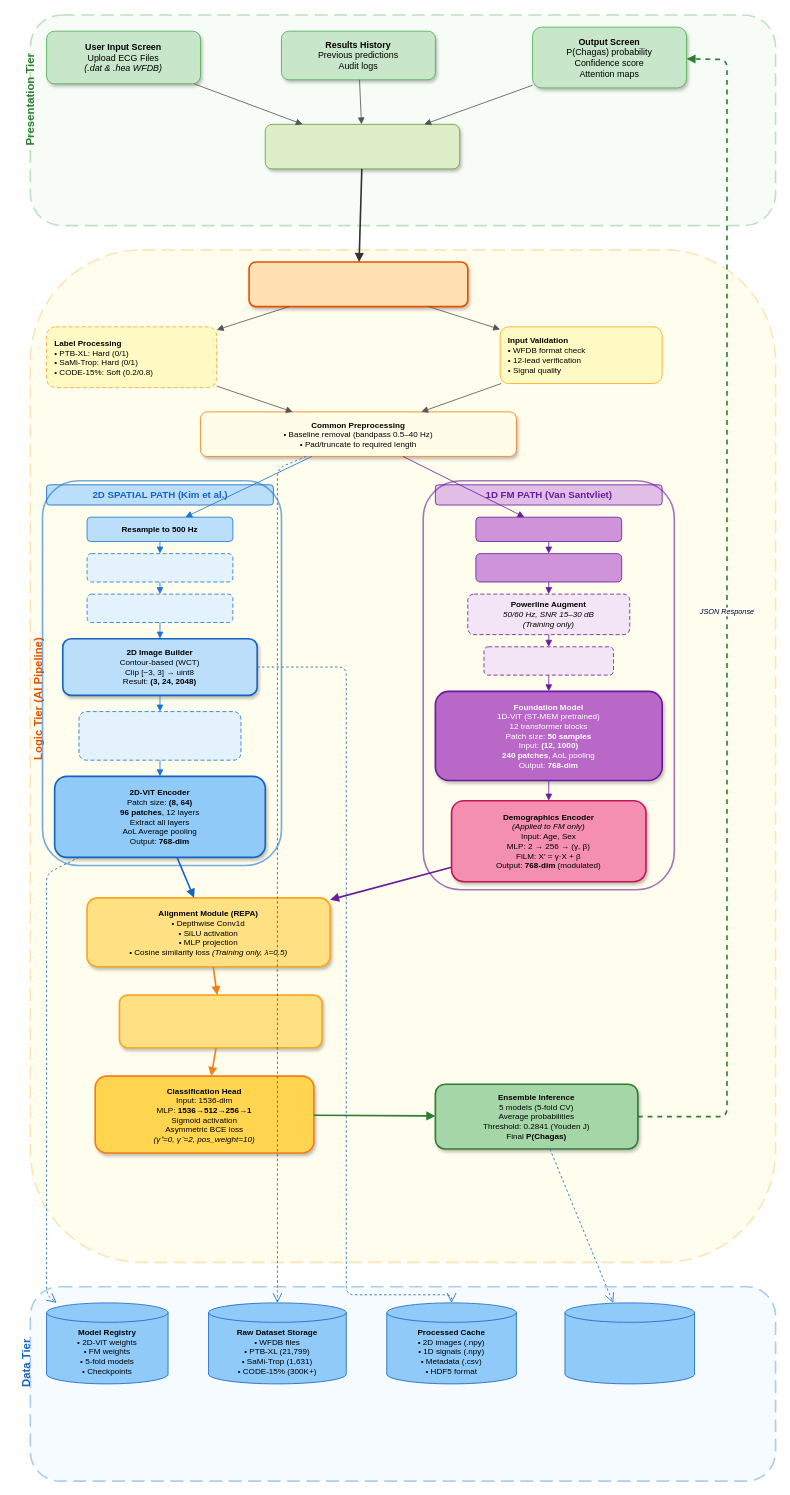
The diagram is 790 pixels wide and 1495 high, and some of its shapes have lost their labels. The centre of each missing label's shape, as x and y in pixels:
Crop & Shift (Training only): [548,660]
Feature Fusion Concatenation 2D-ViT (768) + FM (768) Total: 1536-dim: [221,1022]
Flask API Gateway app.py — port 5050 Request routing: [359,285]
Image Augmentations Grid shuffle, Mixup Rotate, noise, blur (Training only): [159,735]
Lead-mixup augment (Training only): [159,607]
Processing Screen Real-time status Progress bar: [363,147]
Random 3s crop (Training only): [159,567]
Resample to 100 Hz: [548,528]
Results Database • Predictions • Timestamps • Challenge scores • Audit logs: [629,1343]
Z-score normalize Per lead, clip ±3σ: [548,567]
